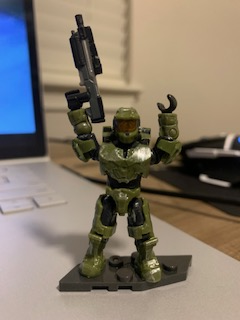chief: (62, 88, 181, 285)
rifle: (64, 12, 107, 127)
spartan: (60, 86, 179, 283)
up: (65, 90, 182, 185)
